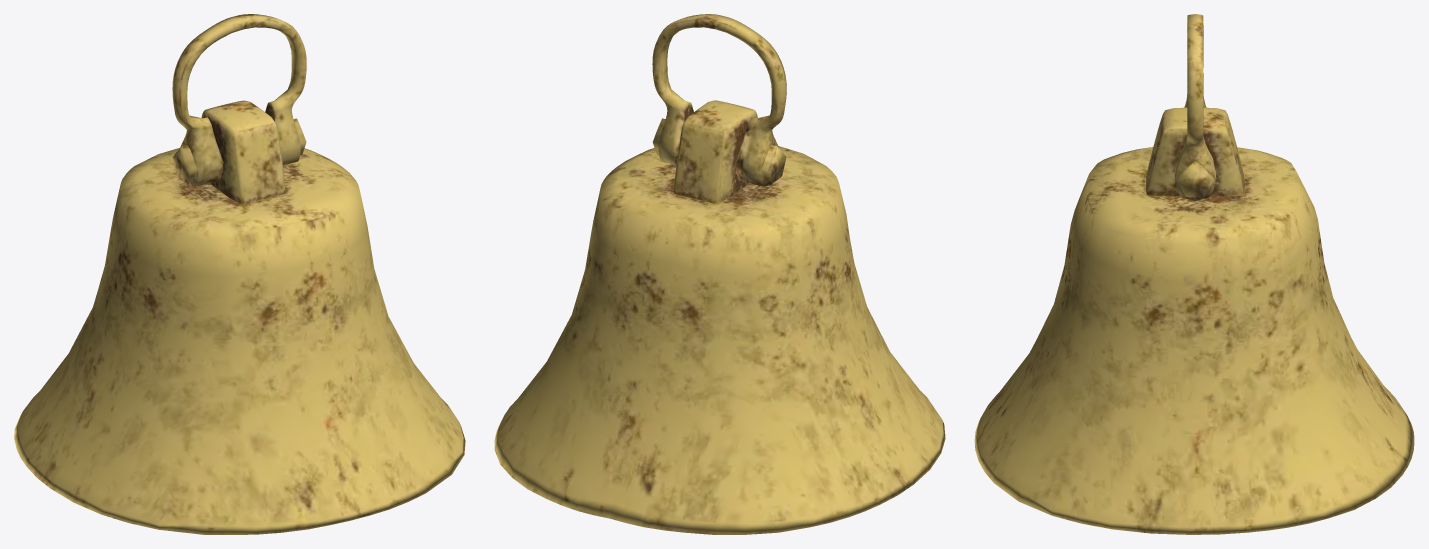
Rendered from s_campanilla.glb.
The picture shows the model from 3 angles, left to right: view 1: azimuth 30°, elevation 25°; view 2: azimuth 150°, elevation 25°; view 3: azimuth 270°, elevation 25°; orthographic projection.
Visible parts, largest first — view 1: Bell_Sphere.001_None_0; view 2: Bell_Sphere.001_None_0; view 3: Bell_Sphere.001_None_0.
Boxes of the visible parts, bbox=[...] form: Bell_Sphere.001_None_0: bbox=[14, 14, 465, 534]; Bell_Sphere.001_None_0: bbox=[494, 14, 945, 534]; Bell_Sphere.001_None_0: bbox=[974, 14, 1414, 534].
Size of the model in its own units: 0.0475 by 0.05 by 0.0475.
1 material, 1 textured.
